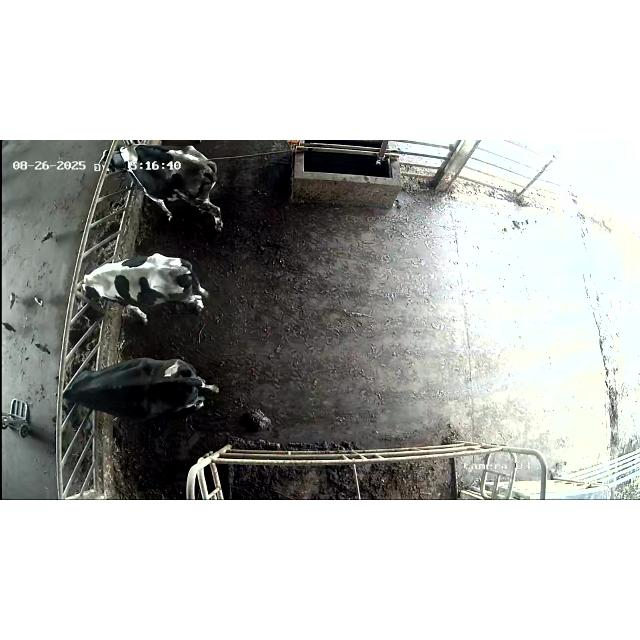eat: (36, 356, 126, 416), (55, 250, 135, 316), (90, 142, 154, 192)
